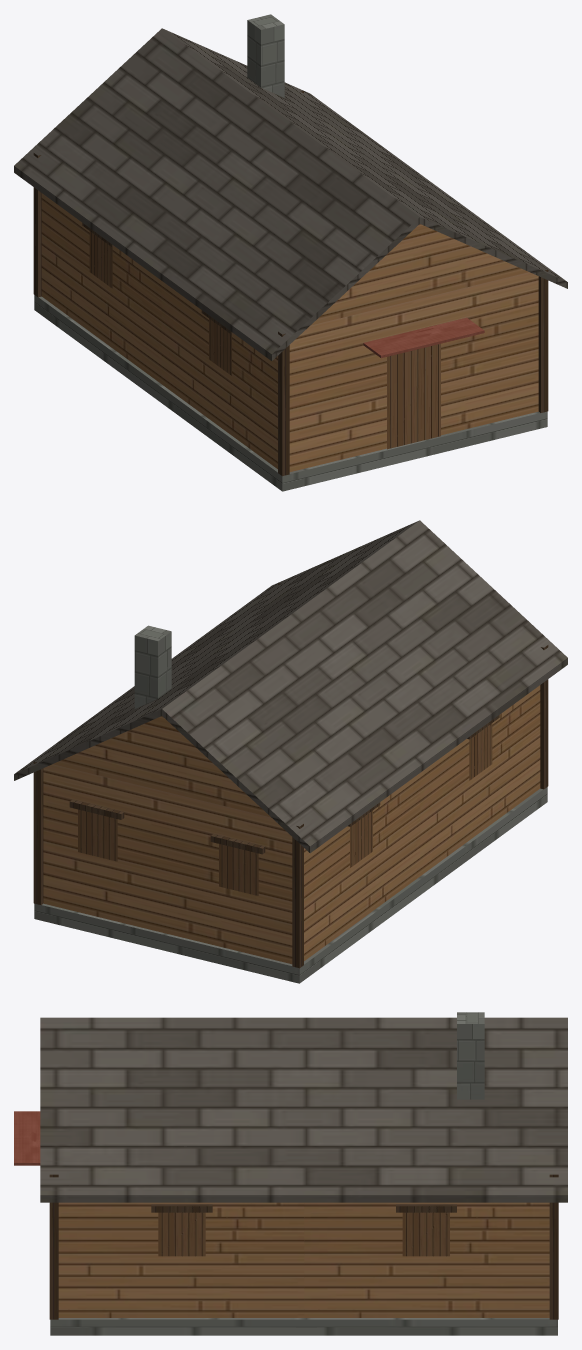
The model's file is ae_sand_wood_large_hall_lod1.glb.
The picture shows the model from 3 angles, top to bottom: view 1: azimuth 30°, elevation 25°; view 2: azimuth 150°, elevation 25°; view 3: azimuth 270°, elevation 25°; orthographic projection. The views are drawn at different scales.
Parts seen in each view (by area): view 1: ae_sand_wood_large_hall_lod1; view 2: ae_sand_wood_large_hall_lod1; view 3: ae_sand_wood_large_hall_lod1.
Boxes of the visible parts, <box> form: ae_sand_wood_large_hall_lod1: <box>14,14,567,491</box>; ae_sand_wood_large_hall_lod1: <box>14,520,567,983</box>; ae_sand_wood_large_hall_lod1: <box>14,1012,567,1335</box>.
Size of the model in its own units: 6.3 by 5.55 by 9.97.
Materials: 1 (1 with a texture image).
